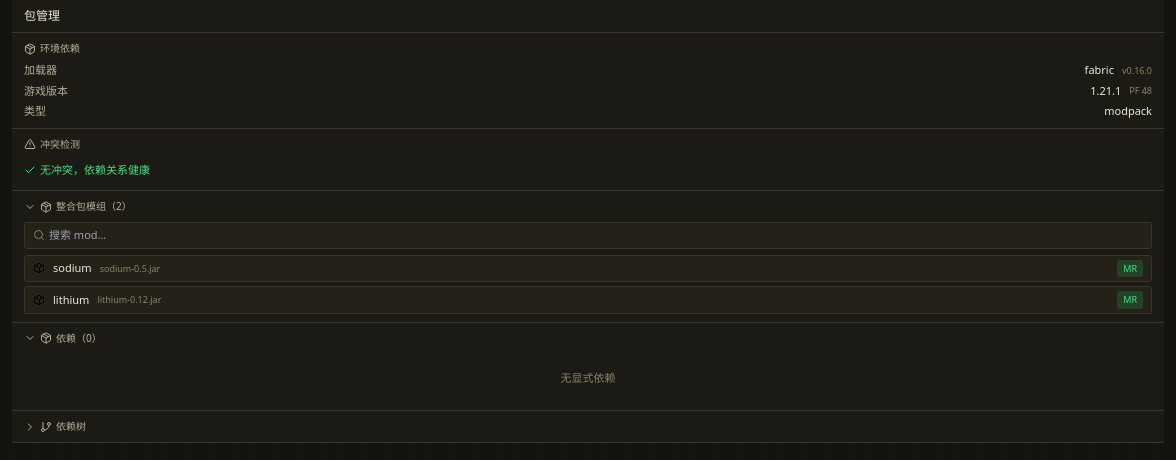
Test case: PackagesPanel › 模组列表支持搜索过滤
The width and height of the screenshot is (1176, 460).
Expected: the text "sodium" is shown, [53, 260, 92, 276]
Type "lithium" into the field with placeholder "搜索 mod…" at (596, 235), box [49, 227, 1143, 244]
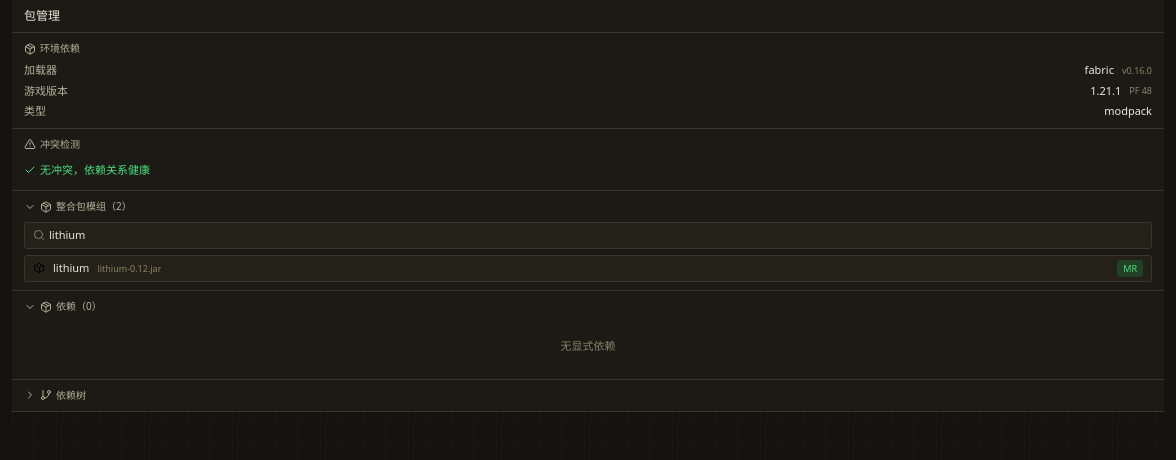
Expected: the text "lithium" is shown, [53, 260, 89, 276]
Expected: the text "sodium" is gone
